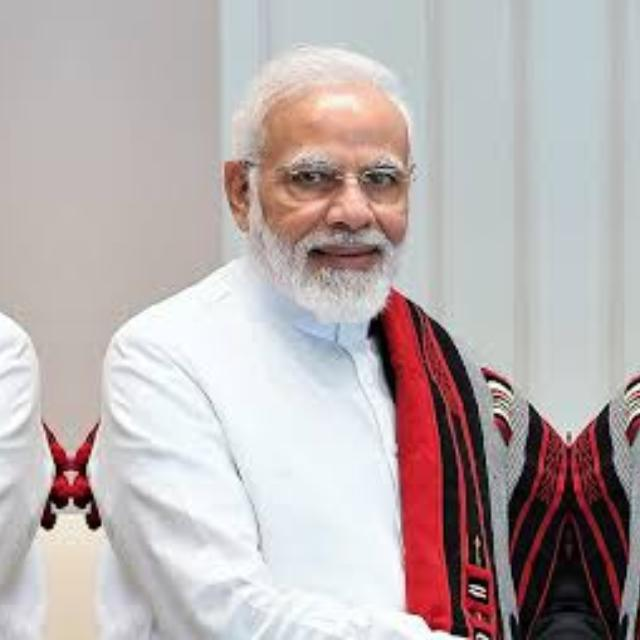person: (110, 22, 568, 640), (568, 22, 640, 639), (0, 22, 30, 639)
